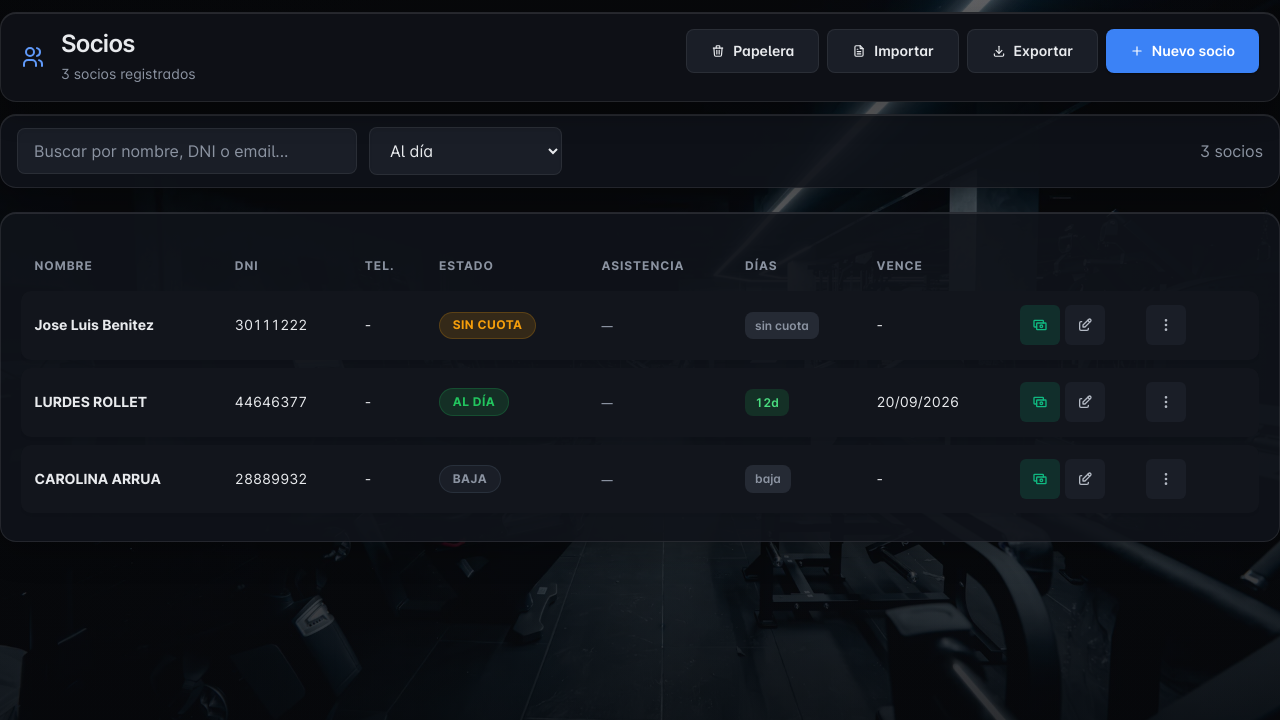
Scenario: el filtro "Sin cuota" › ⭐ cada socio está en UN filtro de estado, y ninguno queda afuera de todos
Select "Al día" in the dropdown at (466, 151), box 369,127 -> 562,175
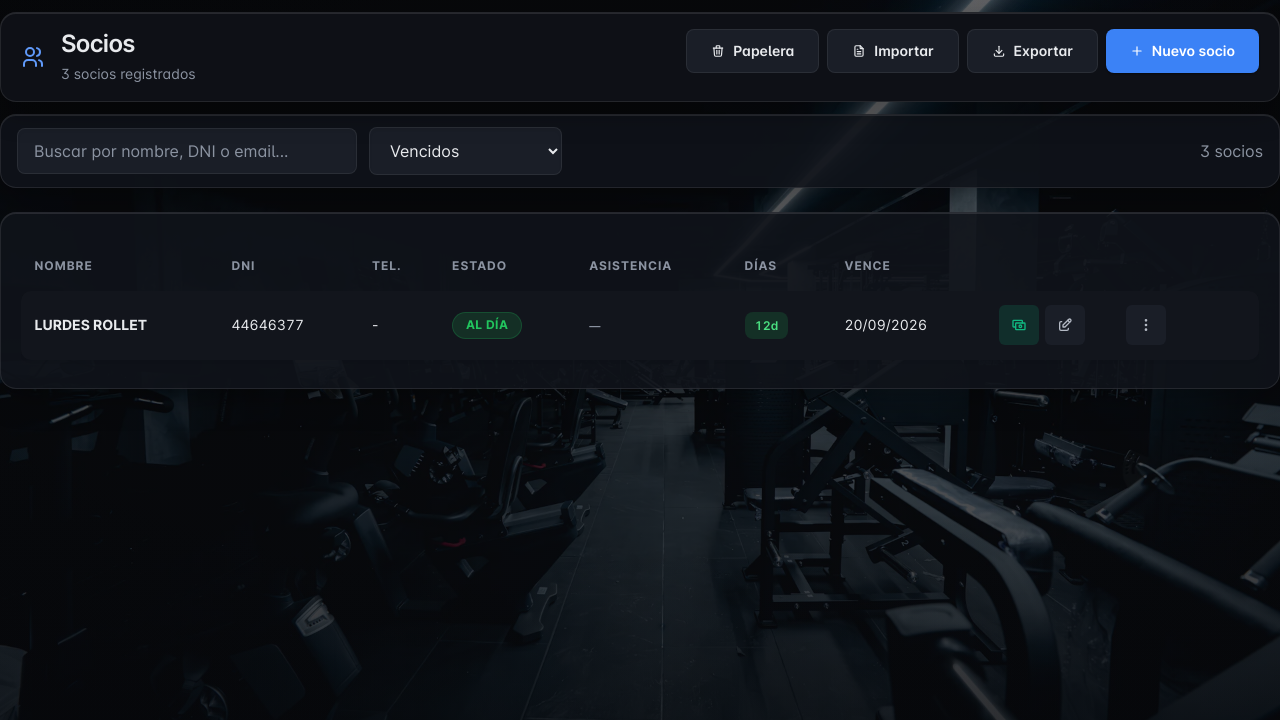
Select "Vencidos" in the dropdown at (466, 151), box 369,127 -> 562,175
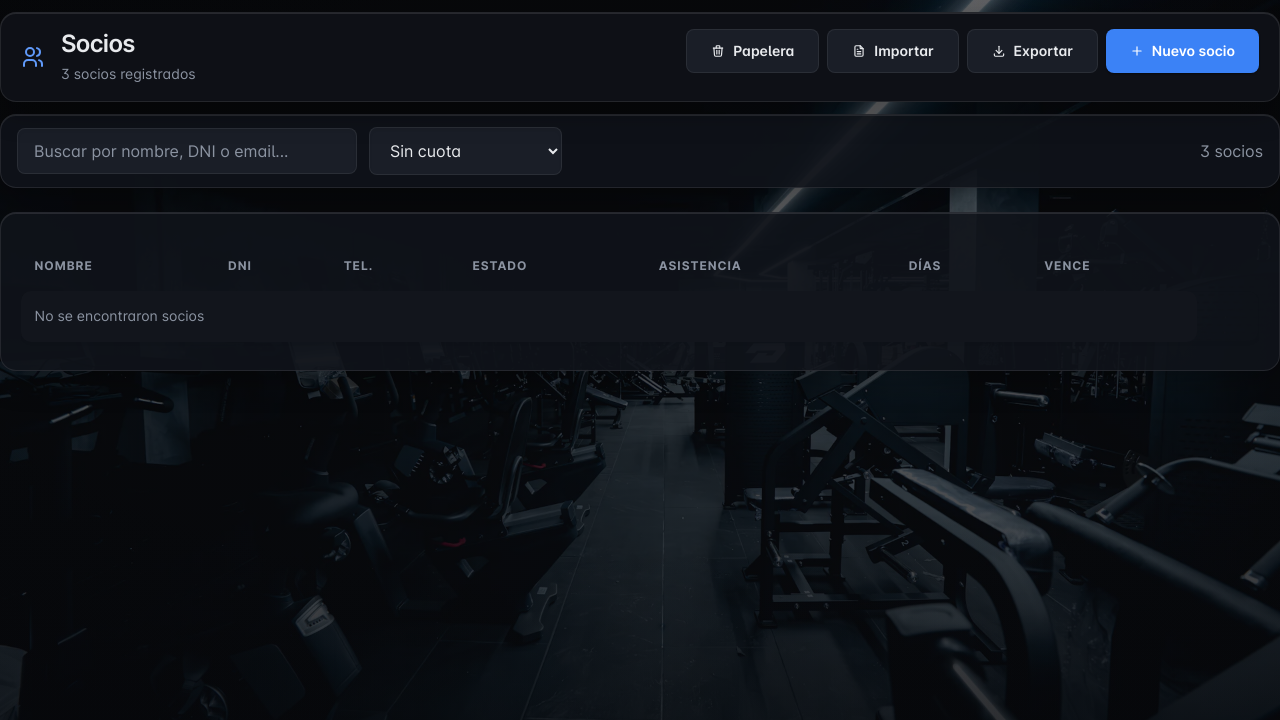
Select "Sin cuota" in the dropdown at (466, 151), box 369,127 -> 562,175
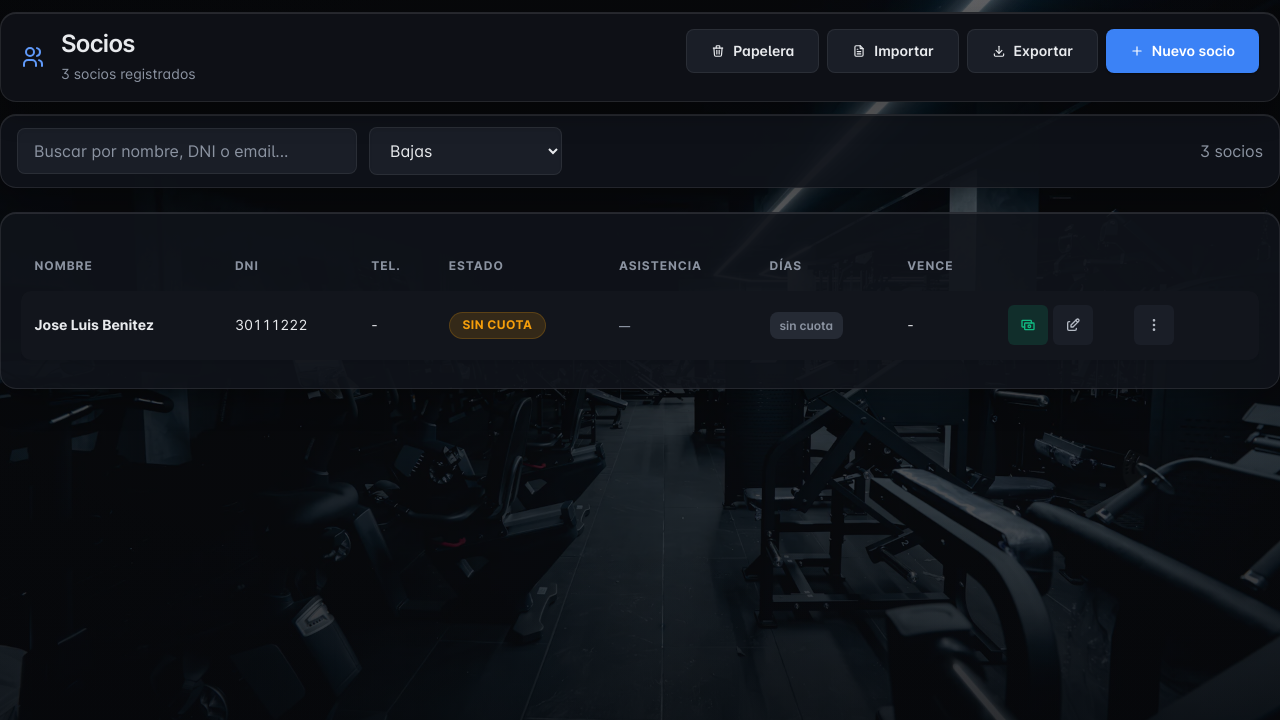
Select "Bajas" in the dropdown at (466, 151), box 369,127 -> 562,175
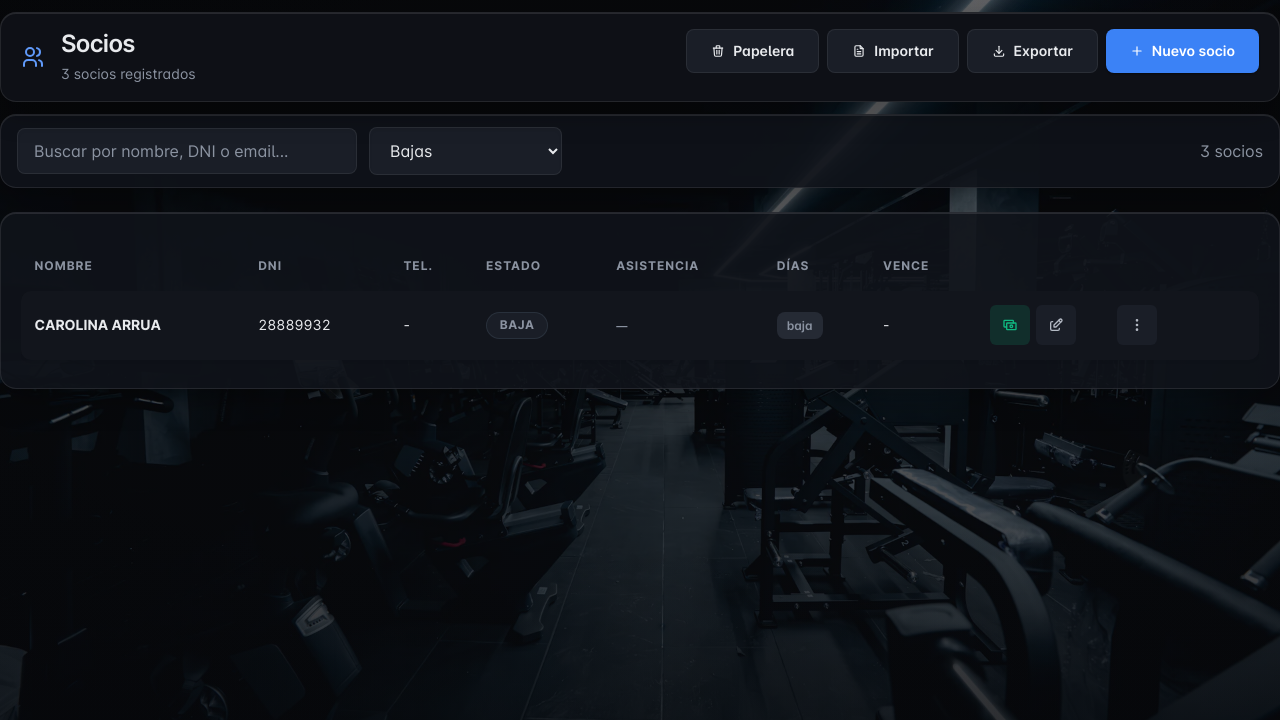
Check: the text "LURDES ROLLET" is not shown
Check: the row "CAROLINA ARRUA 28889932 - Baja — baja -" is shown, box 21,291 -> 1259,360
